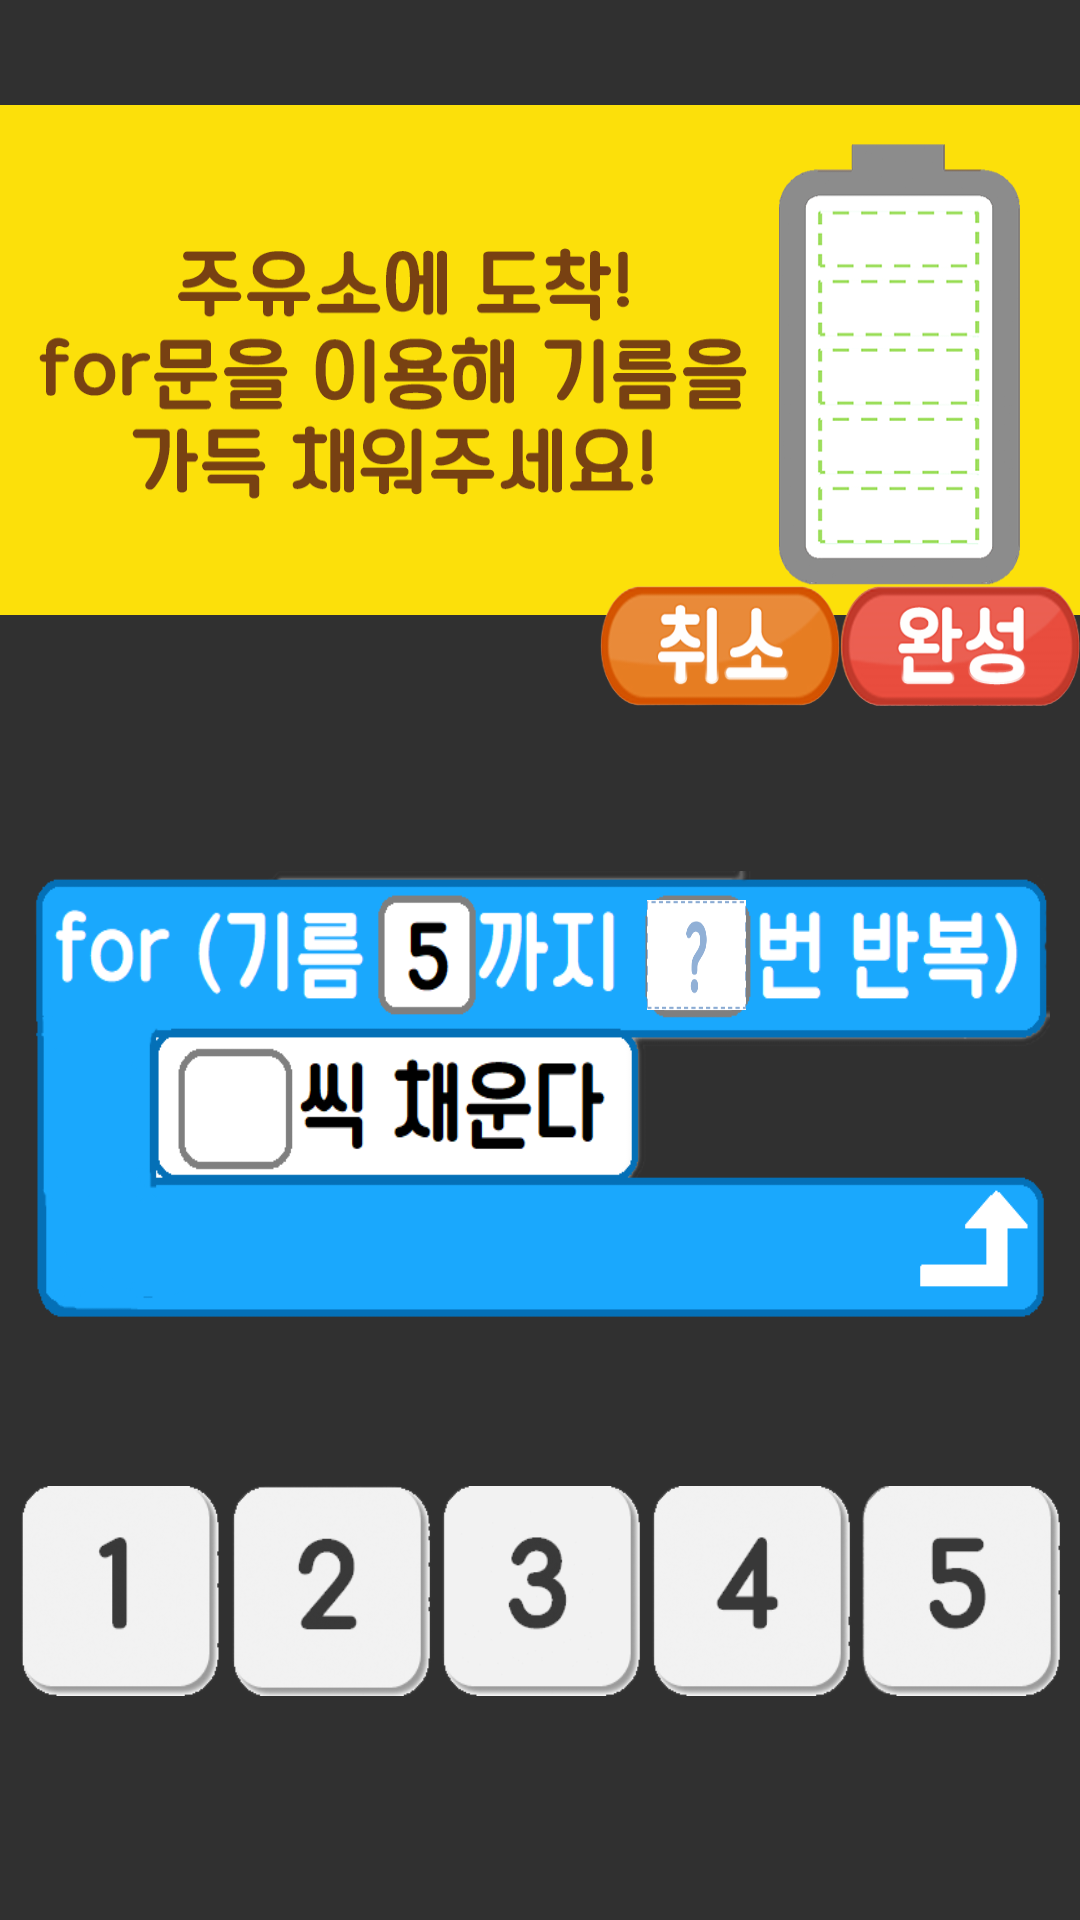

Icons on this 1080 x 1920 Android screen, each with the point to tap as (x,y):
question: (697,955)
